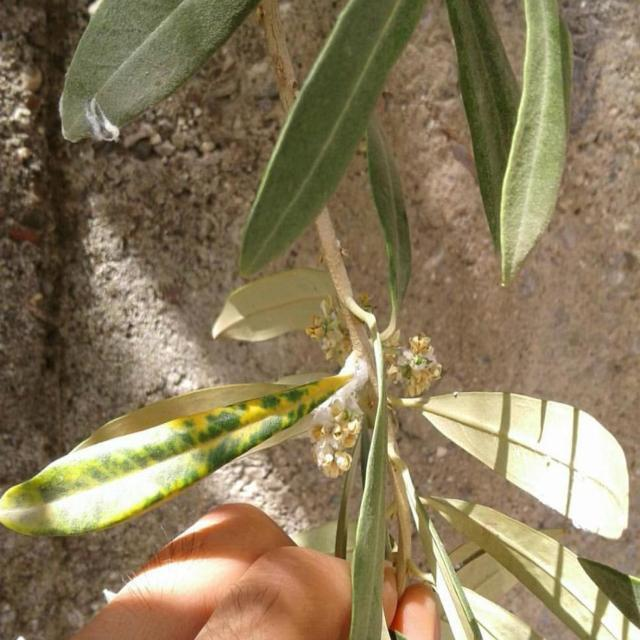OlivePeacockSpot: (0, 374, 351, 536)
Psyllid: (309, 351, 371, 478), (385, 334, 442, 396), (80, 86, 120, 142)
